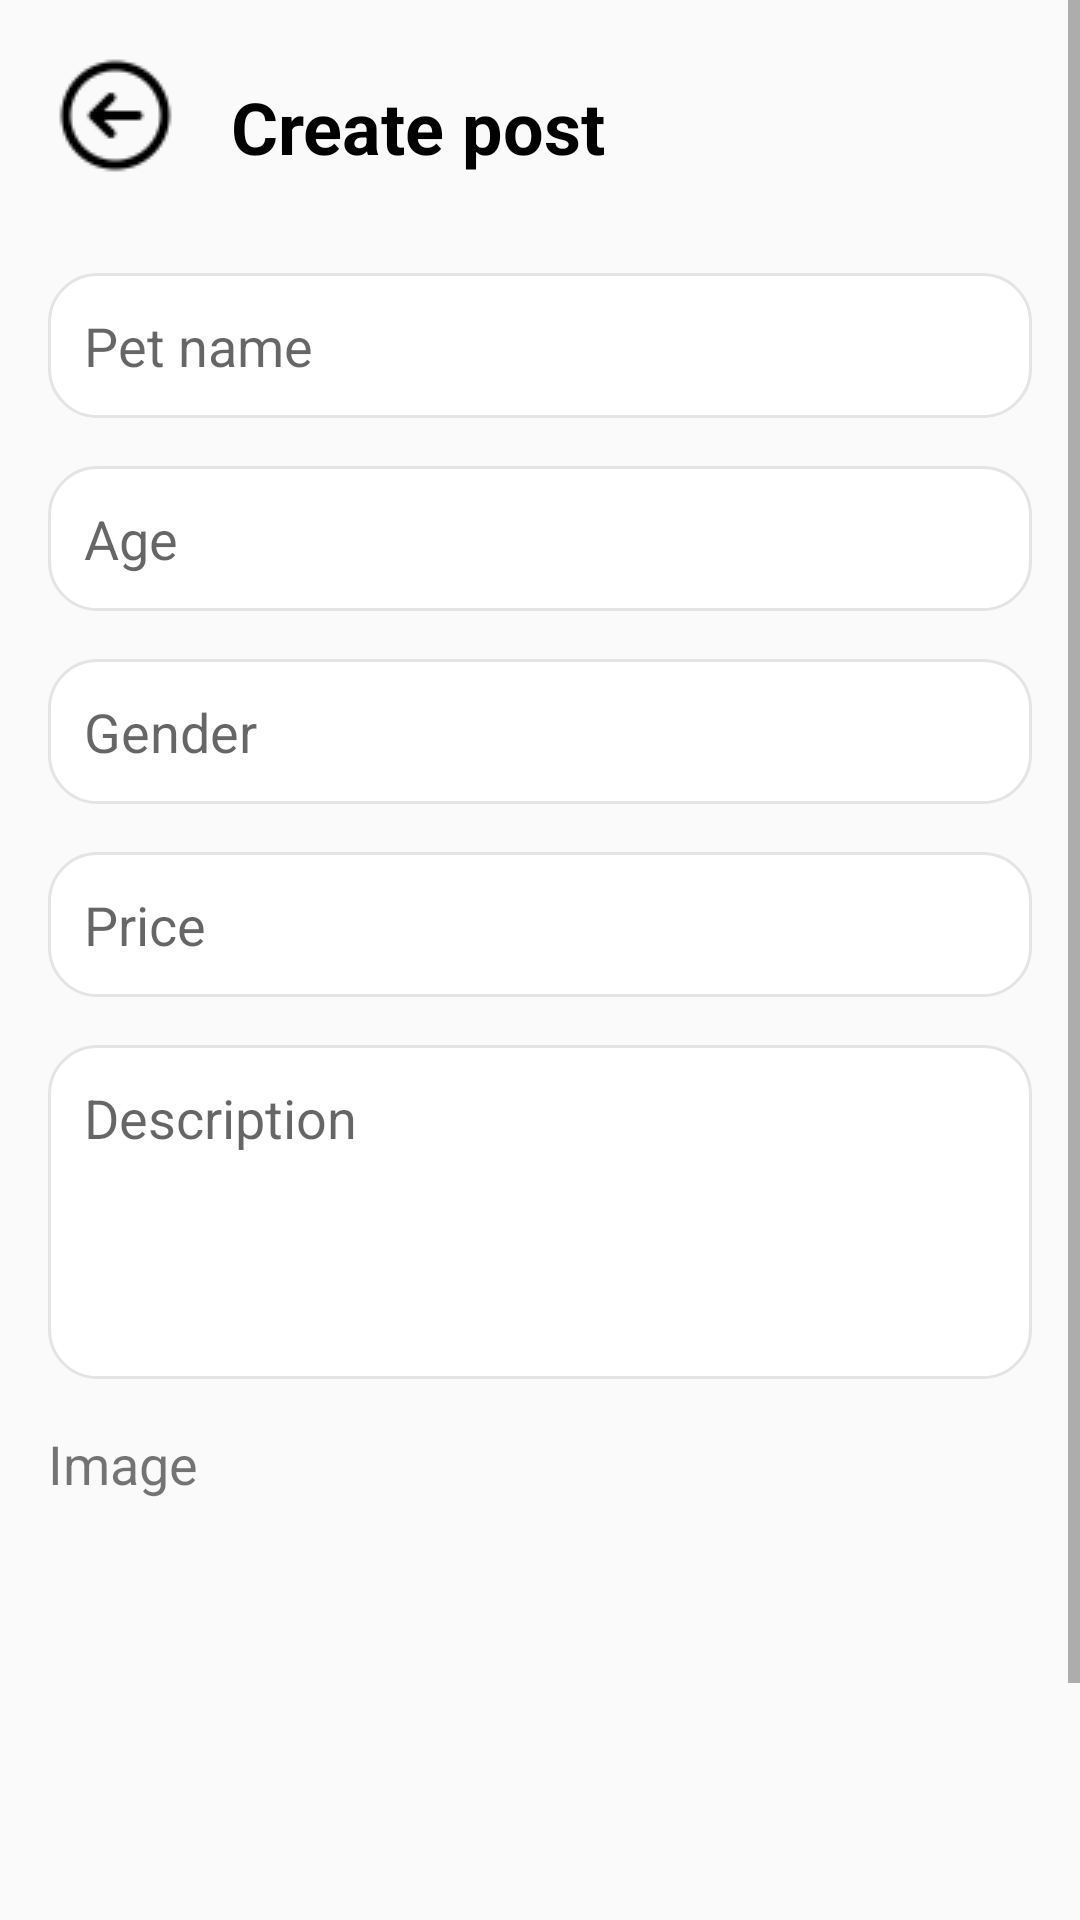

Point at icon controls on the screen. Image size 1080px×1920px, points as (x=x, y=y).
Back: (x=115, y=115)
